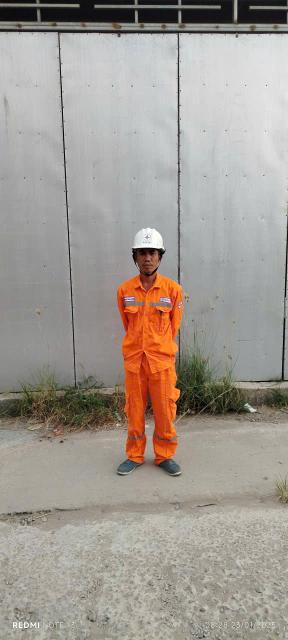helmet: (129, 226, 168, 260)
shoes: (100, 433, 148, 487), (148, 440, 192, 479)
